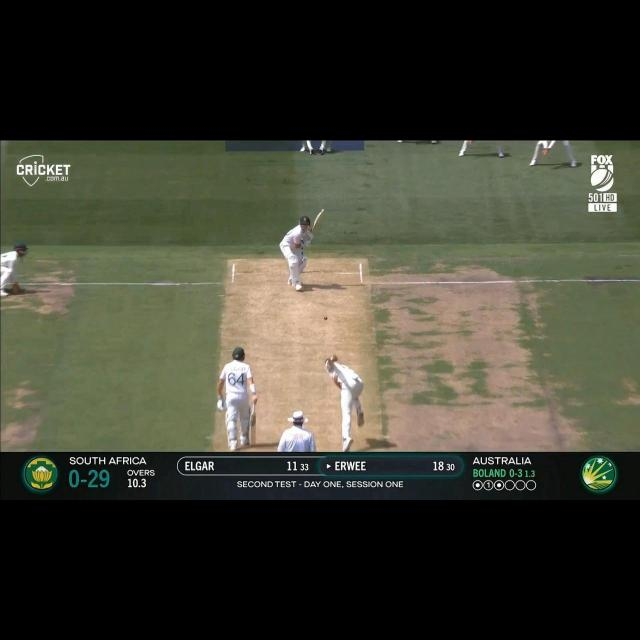bat: (309, 208, 324, 234), (250, 413, 258, 446)
toe: (249, 440, 257, 446), (318, 208, 324, 215)
